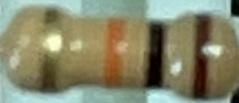Black: (144, 19, 170, 88)
Brown: (190, 13, 214, 100)
Orange: (101, 16, 128, 91)
Side-Gold: (35, 5, 67, 95)
